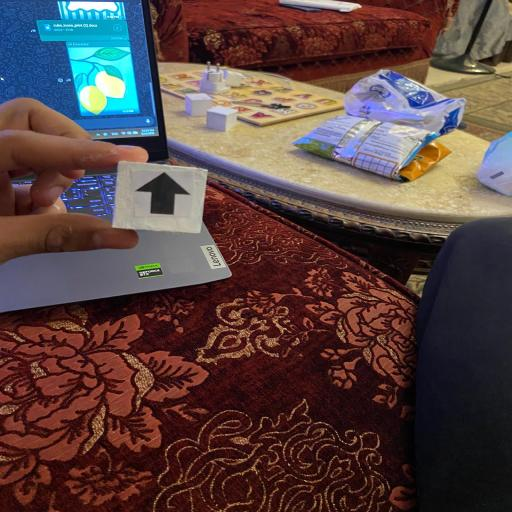Up: (110, 159, 209, 233)
